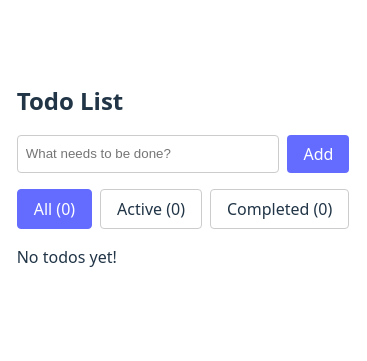
TodoList Component › handles multiple todos correctly
In the field with test id "todo-input": [148, 154] box [17,135,279,173], type "First todo"
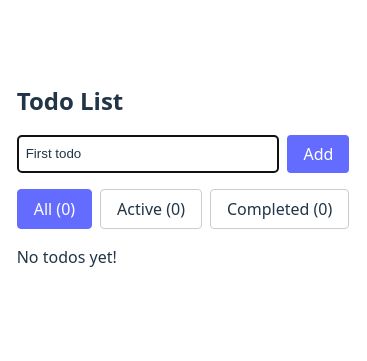
Click the button with test id "add-button": [318, 154] box [287,135,349,173]
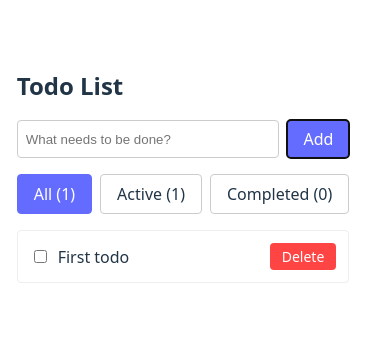
In the field with test id "todo-input": [148, 140] box [17,120,279,158], type "Second todo"
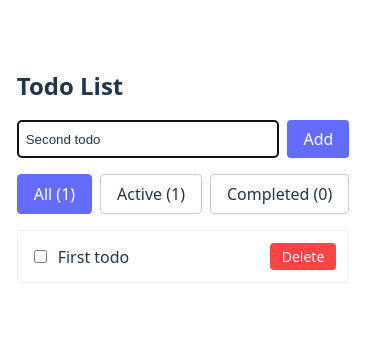
Click the button with test id "add-button": [318, 140] box [287,120,349,158]
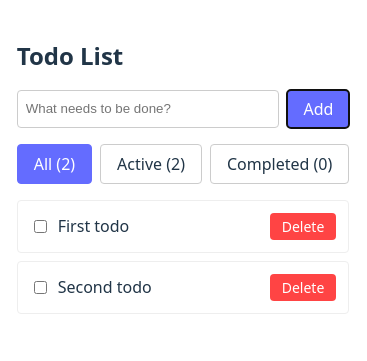
In the field with test id "todo-input": [148, 109] box [17,90,279,128], type "Third todo"
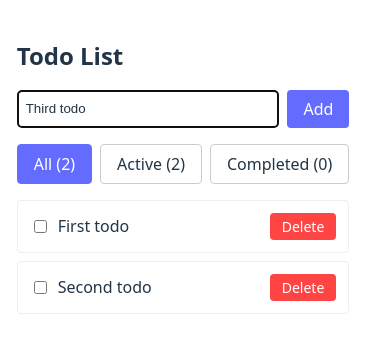
Click the button with test id "add-button": [318, 109] box [287,90,349,128]
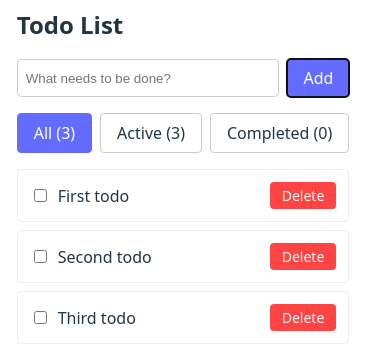
Expected: the text "First todo" is shown, [58,185,129,207]
Expected: the text "Second todo" is shown, [58,246,152,268]
Expected: the text "Third todo" is shown, [58,307,136,329]
